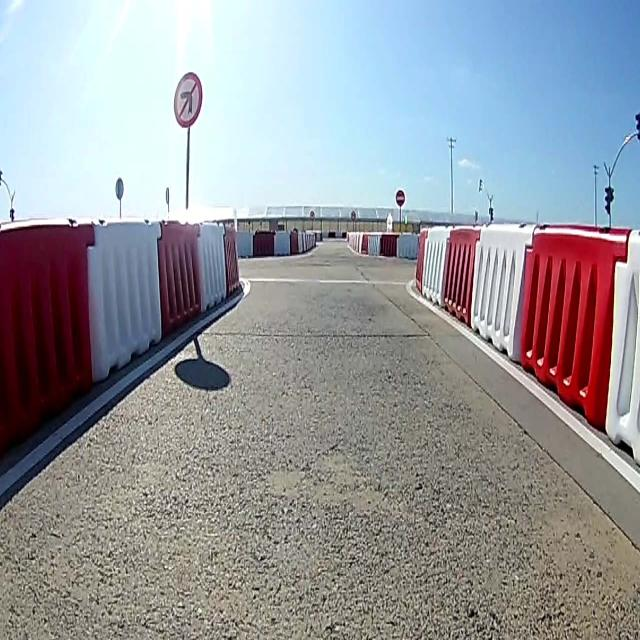girisyok: (395, 188, 405, 205)
soladonulmez: (173, 72, 202, 128)
